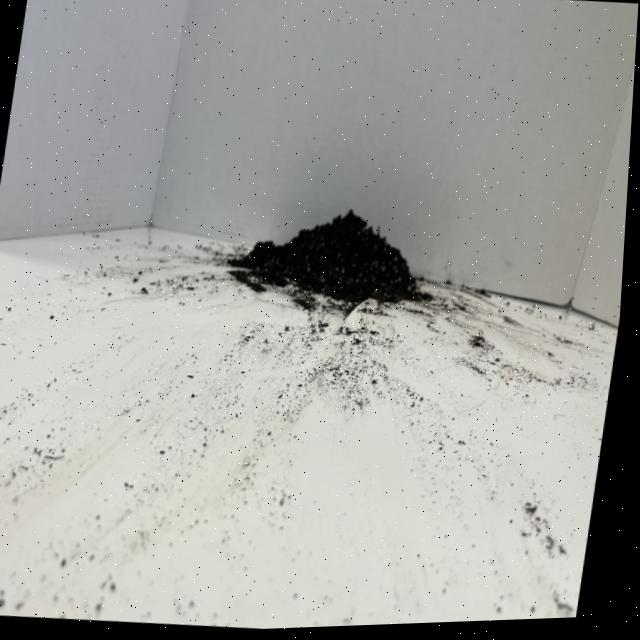soil: (219, 192, 439, 319)
